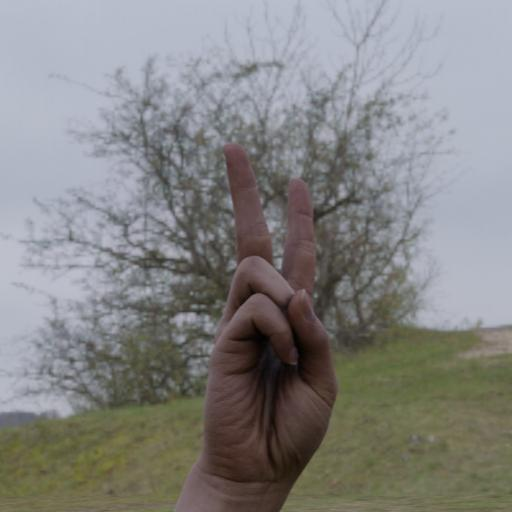V: (164, 123, 350, 512)
